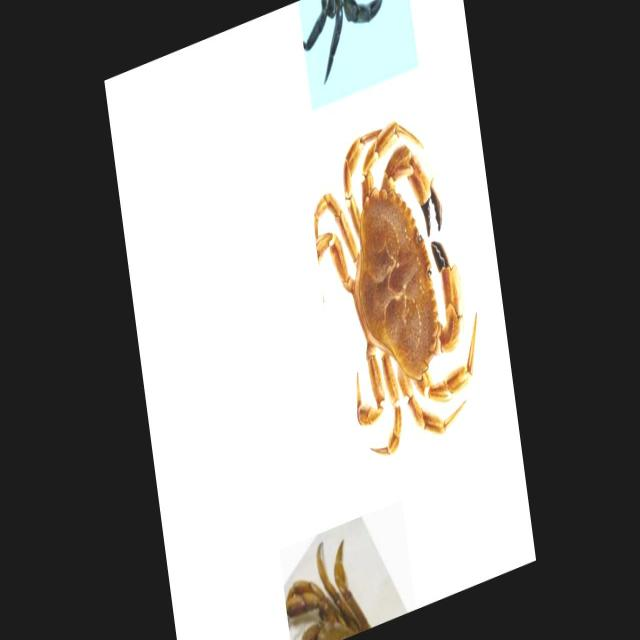egc: (302, 2, 383, 84)
